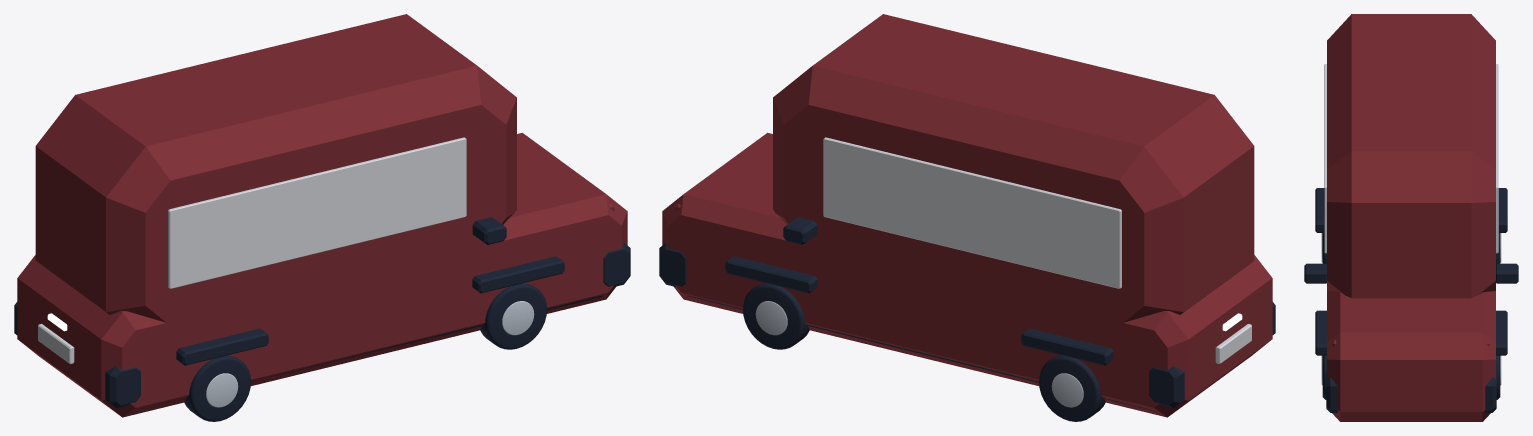
File: spire_dress_car_v2.glb
3 renders of one model, left to right at view 1: azimuth 30°, elevation 25°; view 2: azimuth 150°, elevation 25°; view 3: azimuth 270°, elevation 25°, orthographic. The views are drawn at different scales.
Parts seen in each view (by area): view 1: car_box, car_body, car_side1, car_tyre11.5500000000000003, car_tyre1-1.6500000000000001, car_arch11.5500000000000003, car_arch1-1.6500000000000001, car_bumper_r, car_bumper_f, car_hub11.5500000000000003, car_hub1-1.6500000000000001, car_plate (+1 smaller); view 2: car_box, car_body, car_side-1, car_tyre-11.5500000000000003, car_tyre-1-1.6500000000000001, car_arch-11.5500000000000003, car_arch-1-1.6500000000000001, car_bumper_r, car_bumper_f, car_hub-11.5500000000000003, car_hub-1-1.6500000000000001, car_plate (+2 smaller); view 3: car_box, car_body, car_bumper_f, car_side-1, car_side1, car_arch-11.5500000000000003, car_arch11.5500000000000003, car_mirror-1, car_mirror1, car_arch-1-1.6500000000000001, car_arch1-1.6500000000000001, car_tyre-11.5500000000000003 (+1 smaller).
Boxes of the visible parts, <box> form: car_box: <box>35,14,516,325</box>; car_body: <box>17,132,627,417</box>; car_side1: <box>168,137,466,288</box>; car_tyre11.5500000000000003: <box>480,283,546,349</box>; car_tyre1-1.6500000000000001: <box>184,355,250,421</box>; car_arch11.5500000000000003: <box>472,256,564,293</box>; car_arch1-1.6500000000000001: <box>176,328,268,365</box>; car_bumper_r: <box>14,302,140,408</box>; car_bumper_f: <box>603,242,630,286</box>; car_hub11.5500000000000003: <box>502,301,534,335</box>; car_hub1-1.6500000000000001: <box>206,373,238,407</box>; car_plate: <box>38,324,74,364</box>; car_box: <box>773,14,1254,325</box>; car_body: <box>662,132,1272,417</box>; car_side-1: <box>823,137,1121,288</box>; car_tyre-11.5500000000000003: <box>743,283,809,349</box>; car_tyre-1-1.6500000000000001: <box>1039,355,1105,421</box>; car_arch-11.5500000000000003: <box>725,256,817,293</box>; car_arch-1-1.6500000000000001: <box>1021,328,1113,365</box>; car_bumper_r: <box>1149,302,1275,408</box>; car_bumper_f: <box>659,242,686,286</box>; car_hub-11.5500000000000003: <box>755,301,787,335</box>; car_hub-1-1.6500000000000001: <box>1051,373,1083,407</box>; car_plate: <box>1215,324,1251,364</box>; car_box: <box>1327,14,1495,298</box>; car_body: <box>1327,291,1495,421</box>; car_bumper_f: <box>1326,374,1496,412</box>; car_side-1: <box>1496,64,1498,253</box>; car_side1: <box>1324,64,1326,253</box>; car_arch-11.5500000000000003: <box>1496,310,1507,355</box>; car_arch11.5500000000000003: <box>1315,310,1326,355</box>; car_mirror-1: <box>1496,263,1518,283</box>; car_mirror1: <box>1304,263,1326,283</box>; car_arch-1-1.6500000000000001: <box>1498,188,1507,232</box>; car_arch1-1.6500000000000001: <box>1315,188,1324,232</box>; car_tyre-11.5500000000000003: <box>1496,355,1500,399</box>.
Size of the model in its own units: 5.75 by 2.87 by 2.36.
